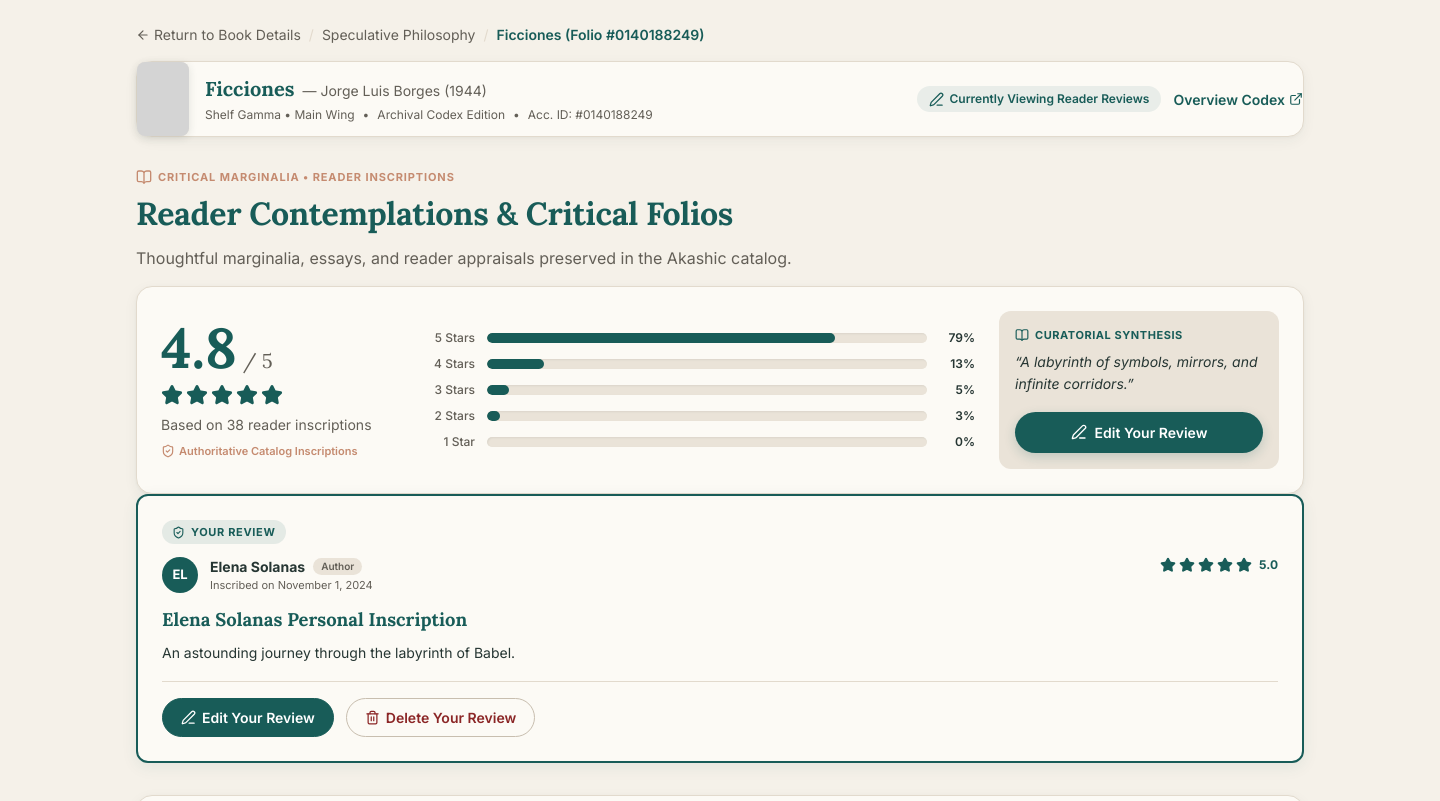
Test: BookReviewsPage › supports review deletion through confirmation dialog
Check: the element with test id "your-review-card" is shown, box x1=136 y1=494 x2=1304 y2=763
# Open confirmation dialog
Click the button "Delete Your Review" at {"x": 440, "y": 718}, box x1=346 y1=698 x2=535 y2=737
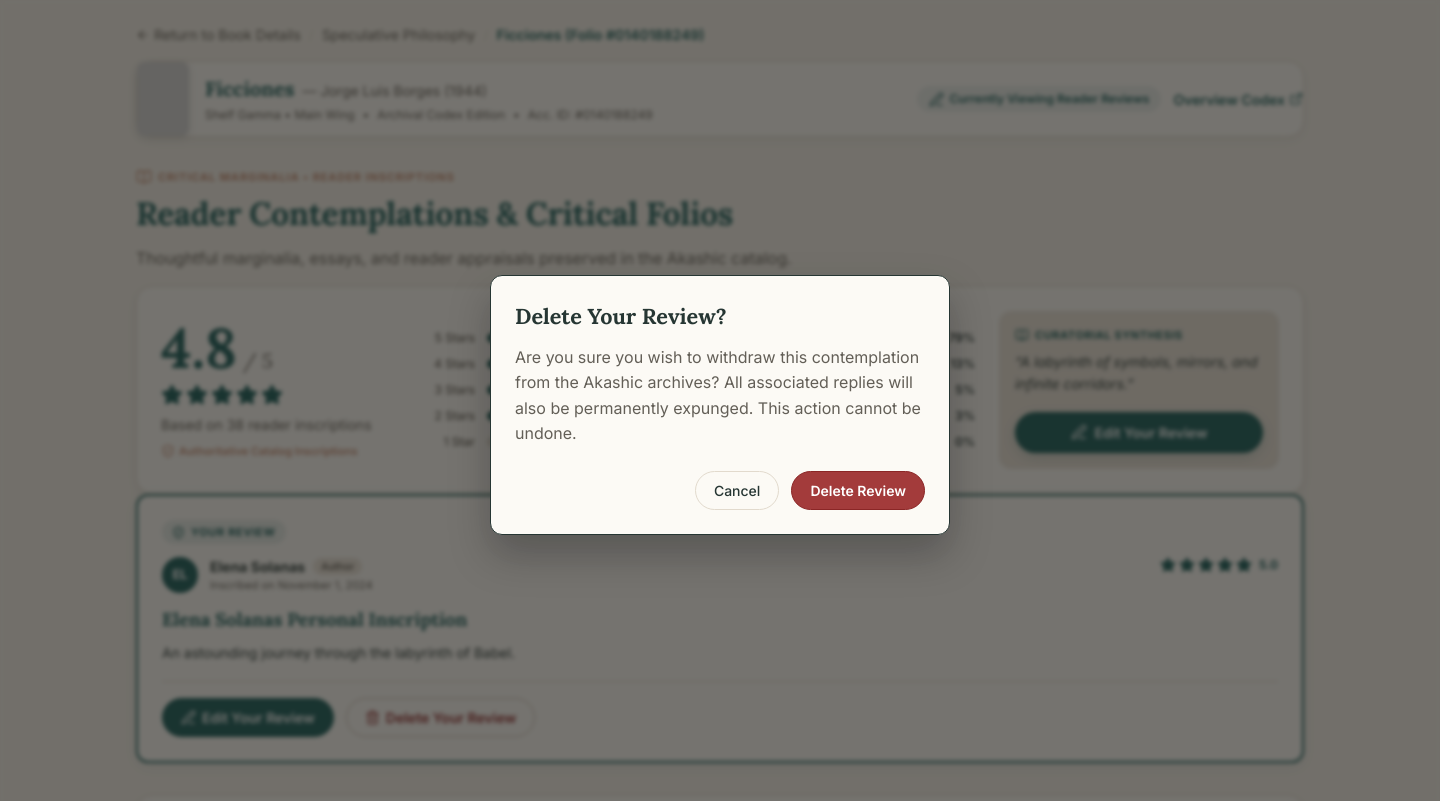
Check: the heading "Delete Your Review?" is shown, box x1=515 y1=302 x2=727 y2=330
# Cancel first
Click the button "Cancel" at {"x": 737, "y": 490}, box x1=695 y1=471 x2=779 y2=510
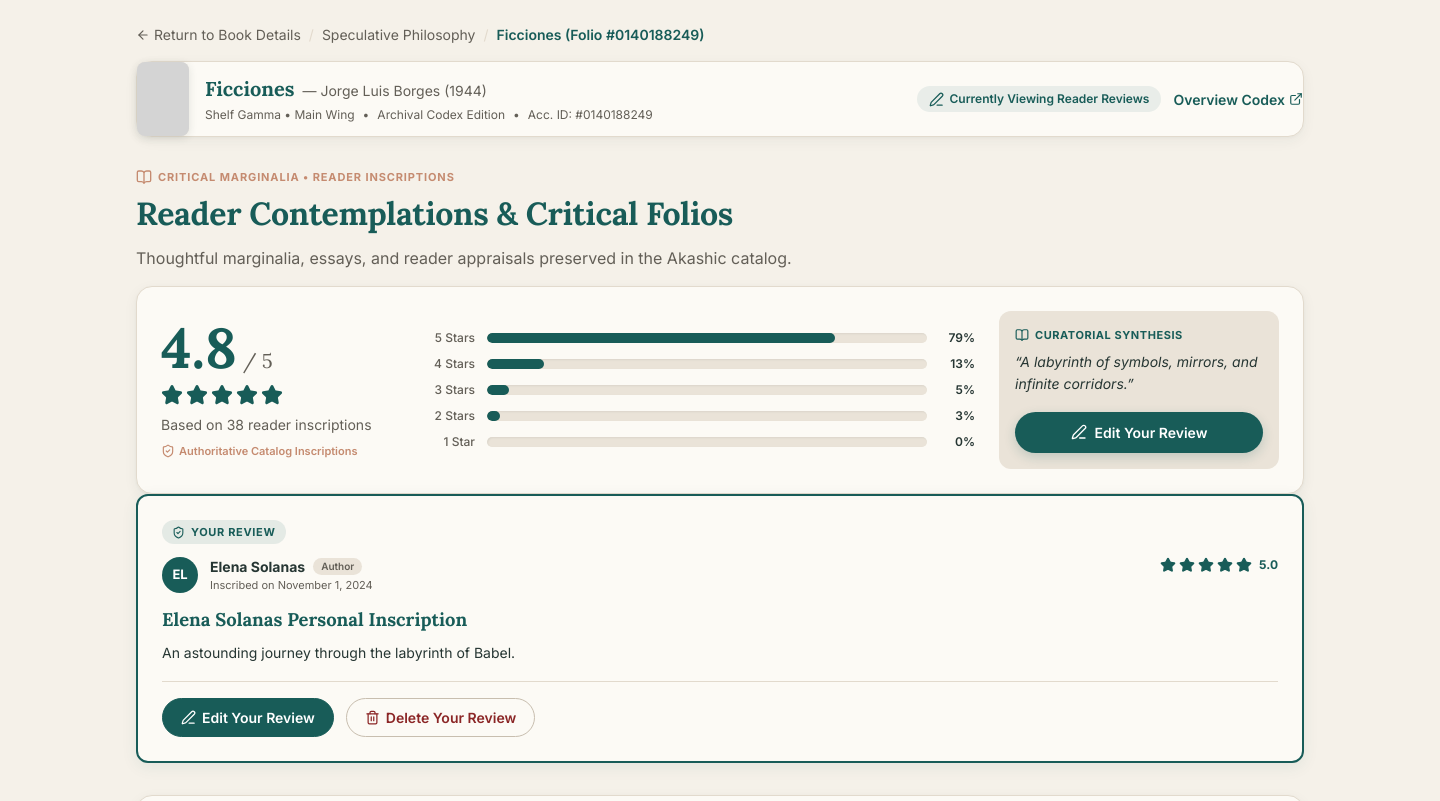
Check: the text "Delete Your Review?" is not shown
# Open again and confirm
Click the button "Delete Your Review" at {"x": 440, "y": 718}, box x1=346 y1=698 x2=535 y2=737
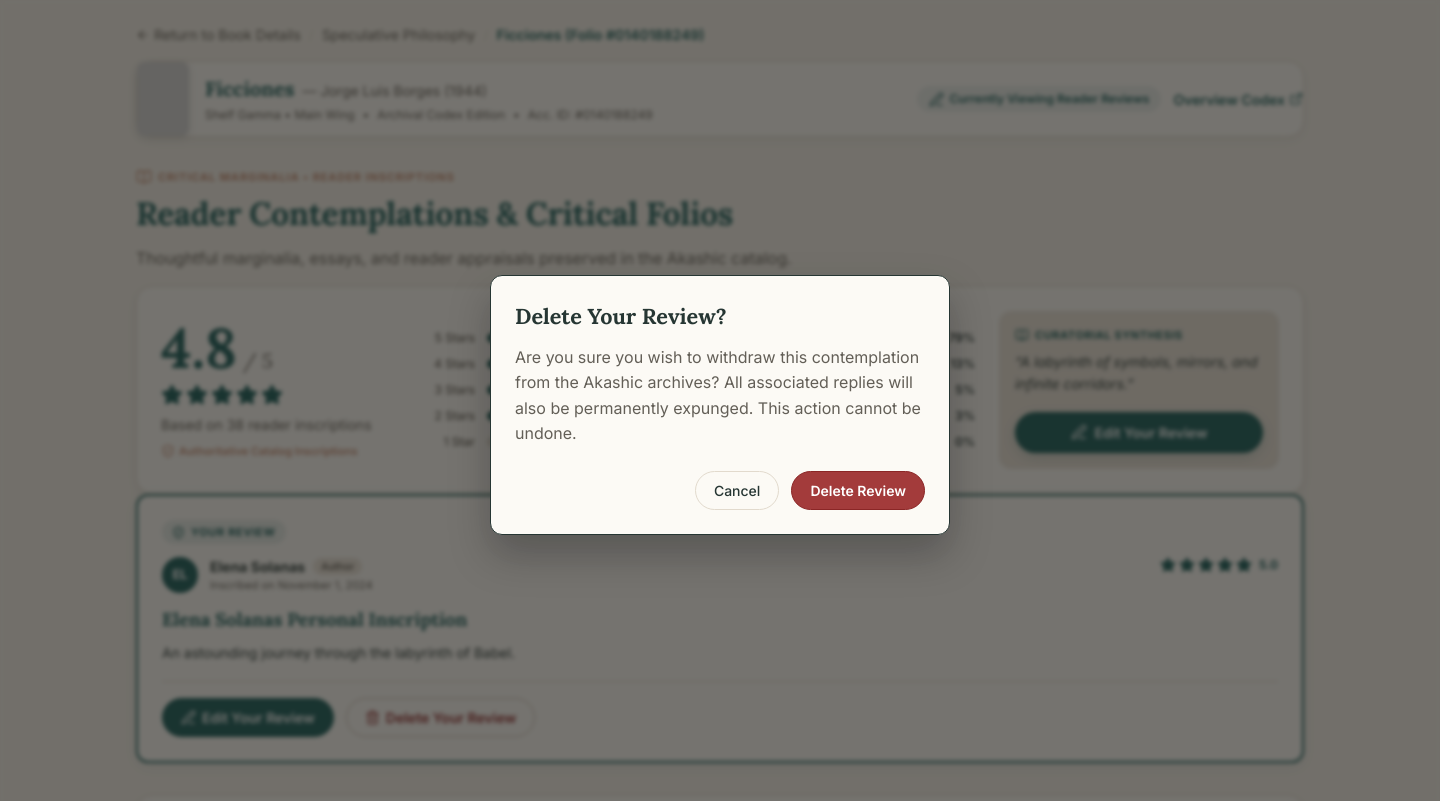
Click the button "Delete Review" at {"x": 858, "y": 490}, box x1=791 y1=471 x2=925 y2=510
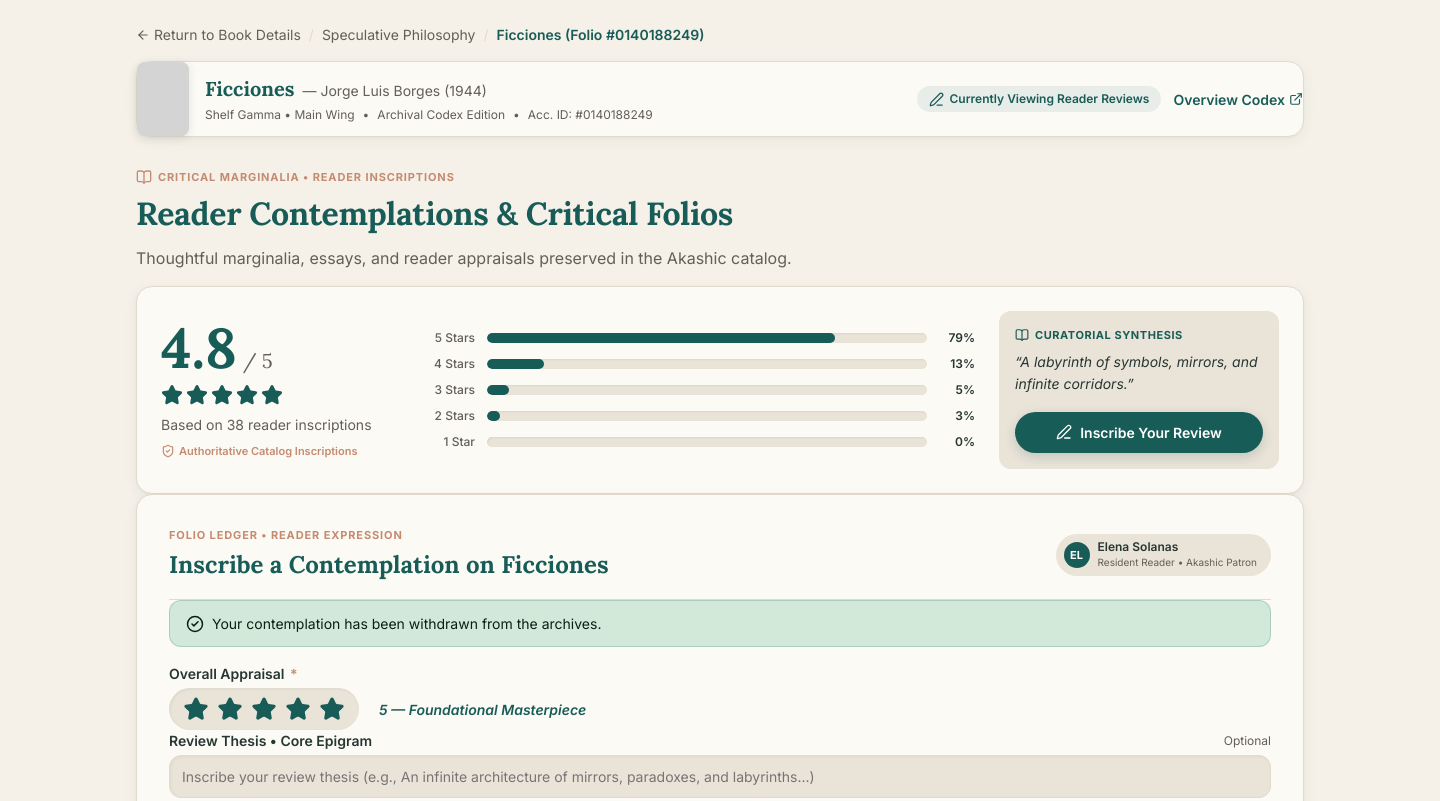
Check: the text "Your contemplation has been withdrawn from the archives." is shown, box x1=212 y1=613 x2=601 y2=634
